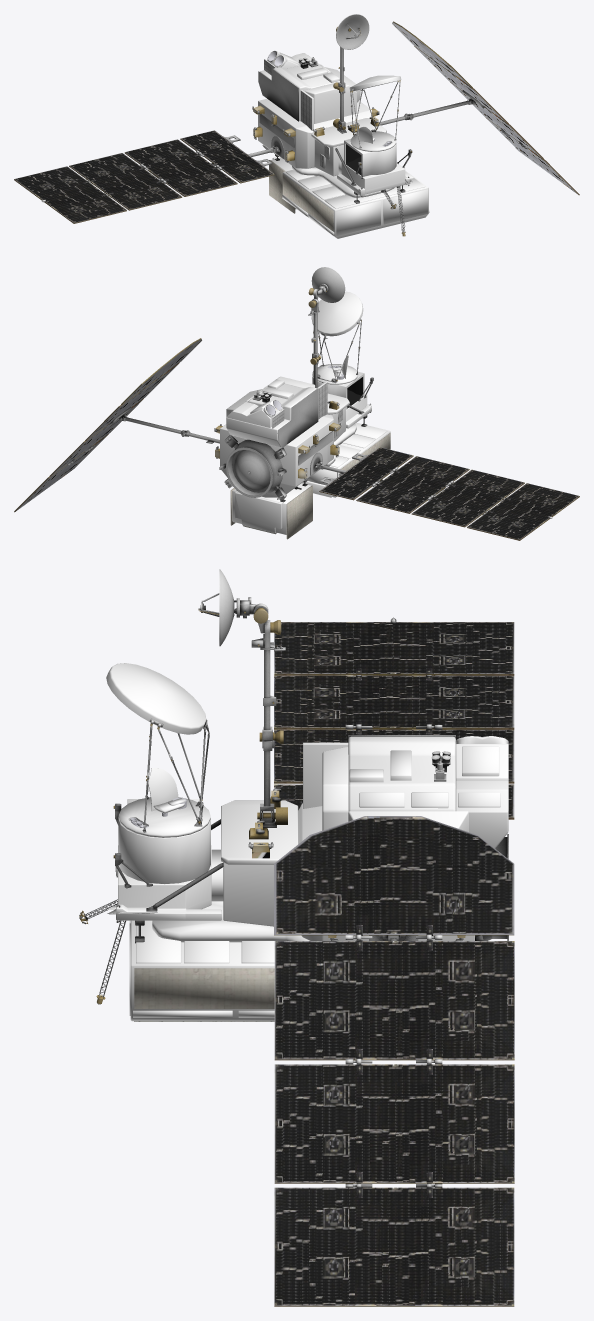
The model's file is GPM.glb.
3 views of the same model, one above another, from view 1: azimuth 30°, elevation 25°; view 2: azimuth 150°, elevation 25°; view 3: azimuth 270°, elevation 25° (orthographic). The views are drawn at different scales.
Visible parts, largest first — view 1: GPM, GPM.002_Cube.002, GPM_antenna; view 2: GPM, GPM.002_Cube.002, GPM_antenna; view 3: GPM, GPM.002_Cube.002, GPM_antenna.
Boxes of the visible parts, left/top/right/bottom form: GPM: left=14, top=14, right=579, bottom=238; GPM.002_Cube.002: left=260, top=53, right=360, bottom=123; GPM_antenna: left=349, top=75, right=401, bottom=151; GPM: left=14, top=267, right=579, bottom=540; GPM.002_Cube.002: left=226, top=376, right=316, bottom=447; GPM_antenna: left=311, top=291, right=363, bottom=384; GPM: left=79, top=569, right=514, bottom=1306; GPM.002_Cube.002: left=322, top=736, right=508, bottom=848; GPM_antenna: left=106, top=663, right=210, bottom=837.
Bounding box in the file's own units: 13.52 × 6.35 × 5.02.
Materials: 12 (10 with a texture image).
